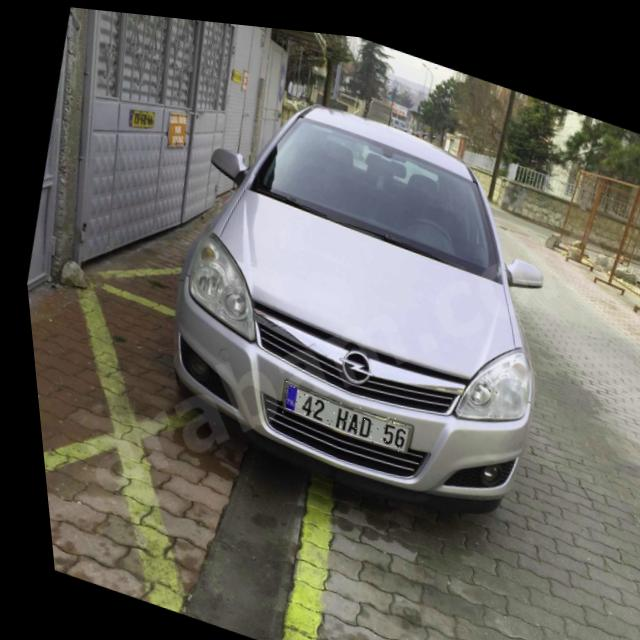license_plate: (271, 374, 405, 447)
